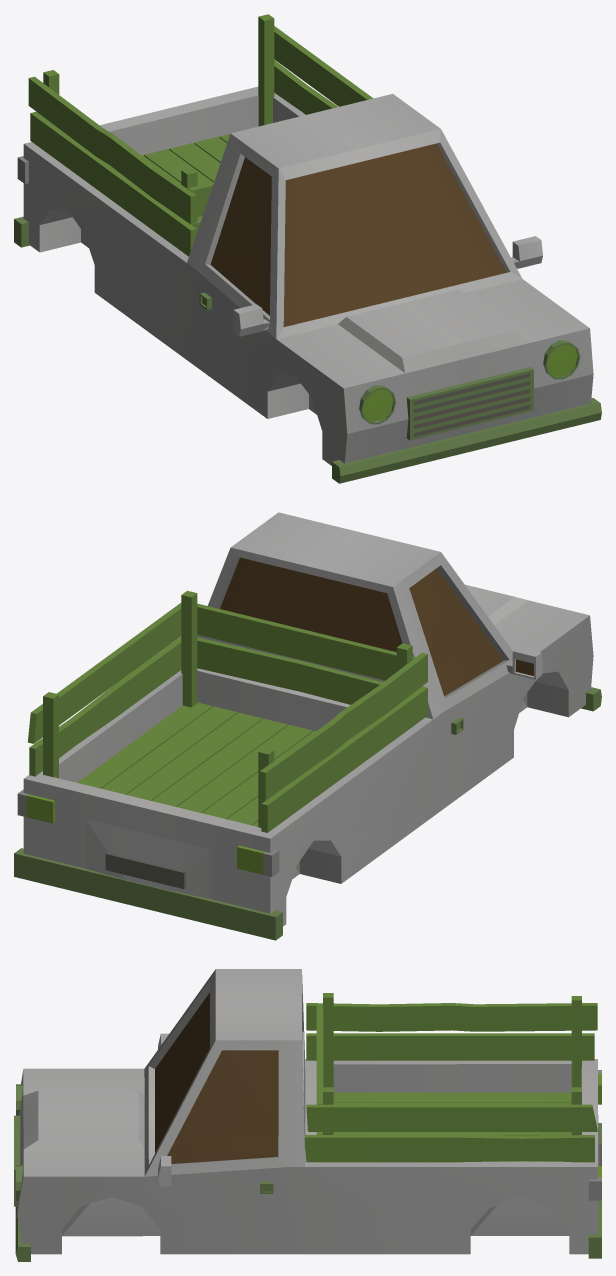
Rendered from Car_28.fbx.
The picture shows the model from 3 angles, top to bottom: view 1: azimuth 30°, elevation 25°; view 2: azimuth 150°, elevation 25°; view 3: azimuth 270°, elevation 25°; orthographic projection. The views are drawn at different scales.
Visible parts, largest first — view 1: Car_28; view 2: Car_28; view 3: Car_28.
Boxes of the visible parts, x1,y1,x2,y2 form: Car_28: (14,14,601,483); Car_28: (14,512,601,940); Car_28: (14,969,601,1261).
Bounding box in the file's own units: 1.96 × 1.38 × 3.67.
